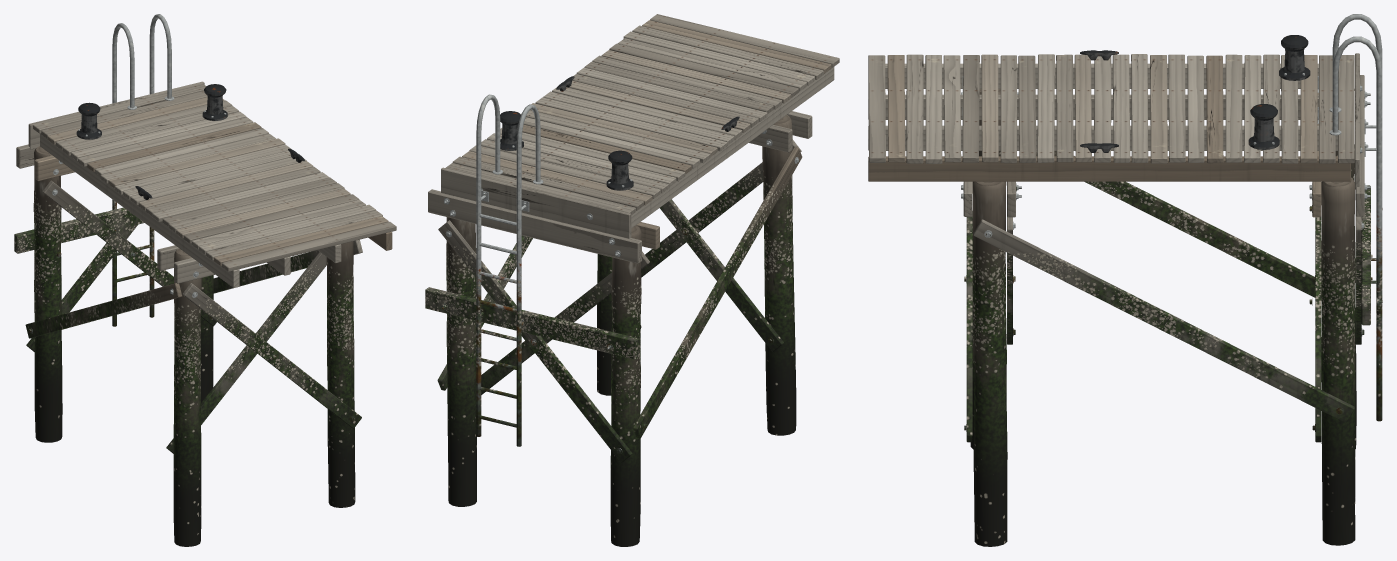
File: Pier_End.gltf
The picture shows the model from 3 angles, left to right: view 1: azimuth 30°, elevation 25°; view 2: azimuth 150°, elevation 25°; view 3: azimuth 270°, elevation 25°; orthographic projection. The views are drawn at different scales.
Parts seen in each view (by area): view 1: Pier_End; view 2: Pier_End; view 3: Pier_End.
Boxes of the visible parts, x1,y1,x2,y2 form: Pier_End: (14, 14, 396, 546); Pier_End: (425, 14, 839, 546); Pier_End: (868, 14, 1382, 546).
Bounding box in the file's own units: 2.31 × 4.37 × 4.22.
Materials: 5 (5 with a texture image).
